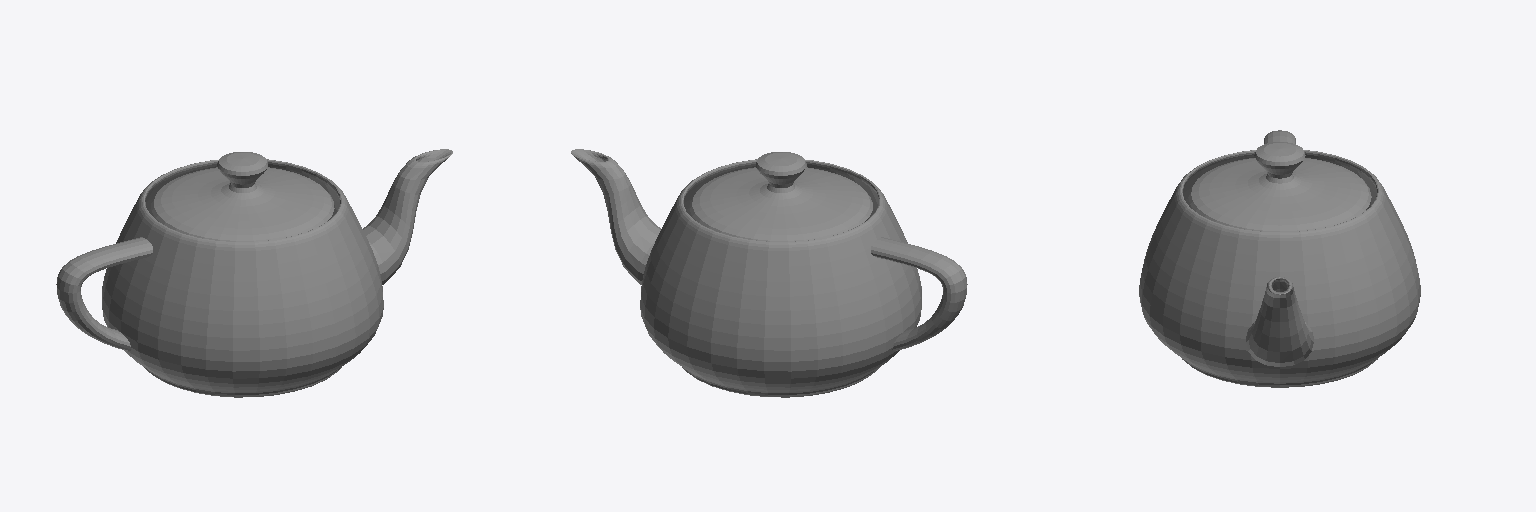
The model's file is teapot.obj.
3 renders of one model, left to right at view 1: azimuth 30°, elevation 25°; view 2: azimuth 150°, elevation 25°; view 3: azimuth 270°, elevation 25°, orthographic.
Parts seen in each view (by area): view 1: Teapot001; view 2: Teapot001; view 3: Teapot001.
Boxes of the visible parts, x1,y1,x2,y2 form: Teapot001: [56, 149, 452, 397]; Teapot001: [571, 149, 967, 397]; Teapot001: [1139, 130, 1420, 387].
Size of the model in its own units: 24.12 by 11.81 by 15.